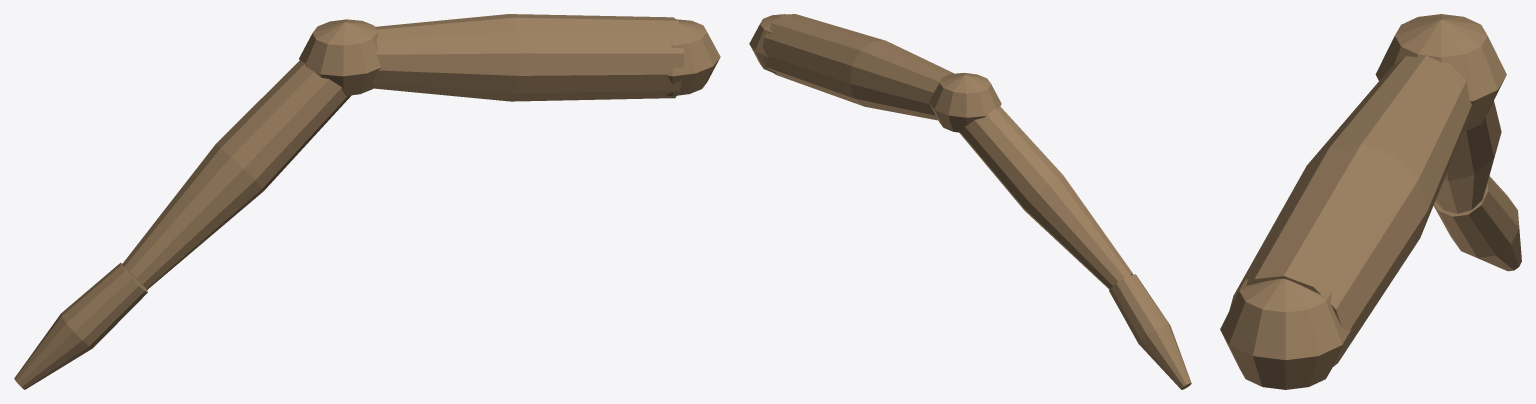
Rendered from scorpion_leg_l2_original_01.glb.
3 renders of one model, left to right at view 1: azimuth 30°, elevation 25°; view 2: azimuth 150°, elevation 25°; view 3: azimuth 270°, elevation 25°, orthographic. The views are drawn at different scales.
Parts seen in each view (by area): view 1: S0_LLeg2Segment1, S0_LLeg2Segment2, S0_LLeg2Segment3, S0_LLeg2Joint1, S0_LLeg2Joint0; view 2: S0_LLeg2Segment1, S0_LLeg2Segment2, S0_LLeg2Segment3, S0_LLeg2Joint1, S0_LLeg2Joint0; view 3: S0_LLeg2Segment1, S0_LLeg2Joint0, S0_LLeg2Joint1, S0_LLeg2Segment3, S0_LLeg2Segment2.
Part boxes in pixels (box(x1,y1,x2,y2)): S0_LLeg2Segment1: box(372, 14, 683, 101); S0_LLeg2Segment2: box(122, 60, 351, 289); S0_LLeg2Segment3: box(14, 262, 147, 389); S0_LLeg2Joint1: box(299, 19, 381, 95); S0_LLeg2Joint0: box(665, 19, 720, 95); S0_LLeg2Segment1: box(763, 14, 953, 120); S0_LLeg2Segment2: box(959, 106, 1132, 289); S0_LLeg2Segment3: box(1109, 274, 1191, 389); S0_LLeg2Joint1: box(929, 73, 1001, 132); S0_LLeg2Joint0: box(749, 14, 784, 73); S0_LLeg2Segment1: box(1229, 55, 1471, 367); S0_LLeg2Joint0: box(1220, 279, 1351, 389); S0_LLeg2Joint1: box(1375, 14, 1506, 131); S0_LLeg2Segment3: box(1433, 176, 1521, 271); S0_LLeg2Segment2: box(1435, 101, 1501, 213).
Size of the model in its own units: 0.6419 by 0.3032 by 0.1747.
